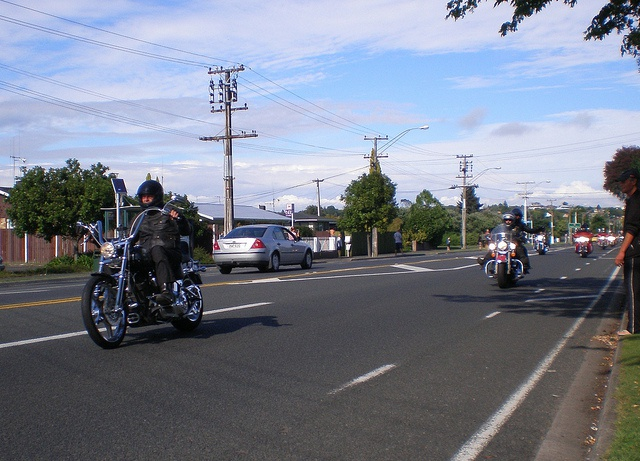non-vehicle: (79, 192, 206, 352), (483, 231, 525, 289), (573, 231, 595, 258), (535, 238, 549, 254), (597, 235, 608, 248), (606, 234, 615, 246), (590, 244, 594, 252)
